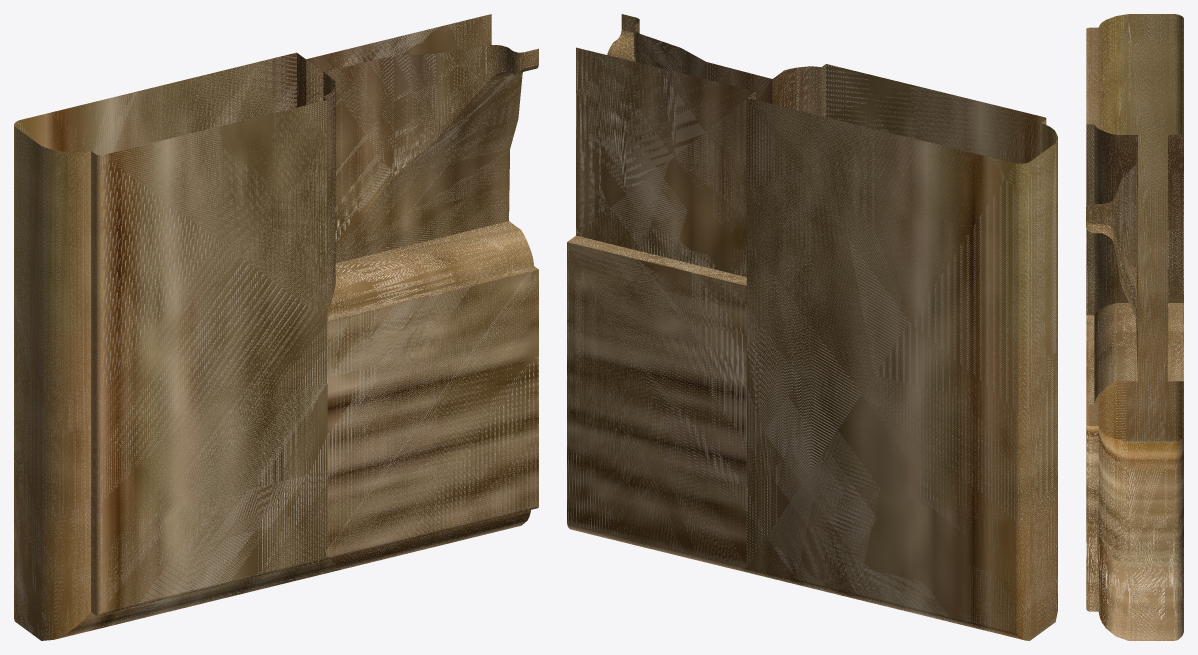
Rendered from original-24.obj.
3 views of the same model, side by side, from view 1: azimuth 30°, elevation 25°; view 2: azimuth 150°, elevation 25°; view 3: azimuth 270°, elevation 25° (orthographic). The views are drawn at different scales.
Visible parts, largest first — view 1: LB_11_BL1/LB_11_BL/mesh15/mesh15-geometry#mesh15-geometry; view 2: LB_11_BL1/LB_11_BL/mesh15/mesh15-geometry#mesh15-geometry; view 3: LB_11_BL1/LB_11_BL/mesh15/mesh15-geometry#mesh15-geometry.
Part boxes in pixels (<box>): LB_11_BL1/LB_11_BL/mesh15/mesh15-geometry#mesh15-geometry: <box>14,14,538,640</box>; LB_11_BL1/LB_11_BL/mesh15/mesh15-geometry#mesh15-geometry: <box>567,14,1057,640</box>; LB_11_BL1/LB_11_BL/mesh15/mesh15-geometry#mesh15-geometry: <box>1086,14,1183,640</box>.
Bounding box in the file's own units: 0.1751 × 0.1751 × 0.0363.
